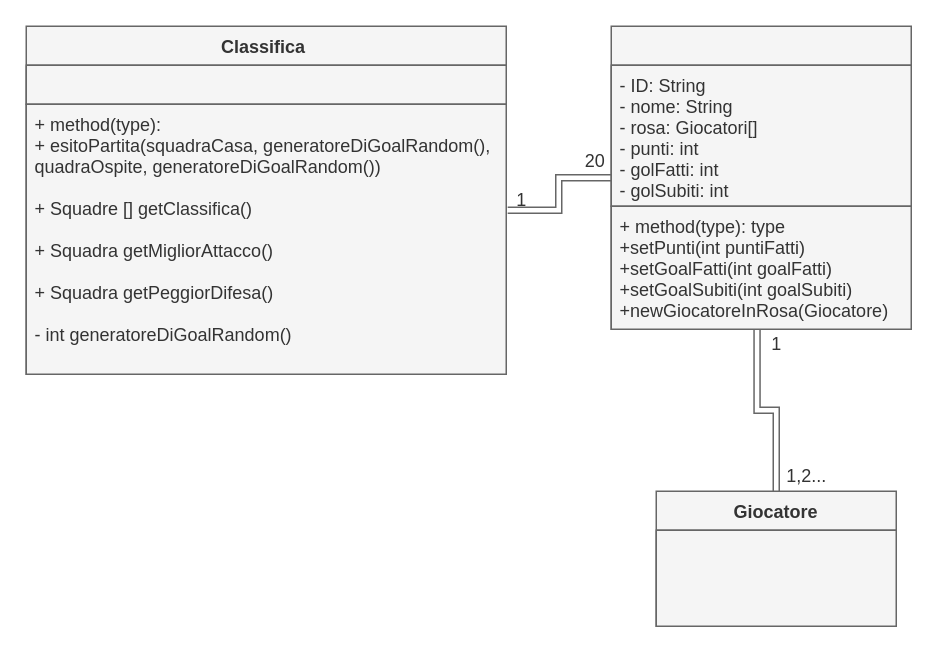
This 938x657 diagram has some shape labels left out. The box of each missing label's shape, as (x1, y1, x2, y2) in pixels:
- field: Squadre[]: (25, 64, 506, 104)
- ID: String - nome: String - cognome: String: (655, 529, 896, 626)
Squadra: (610, 25, 911, 329)
